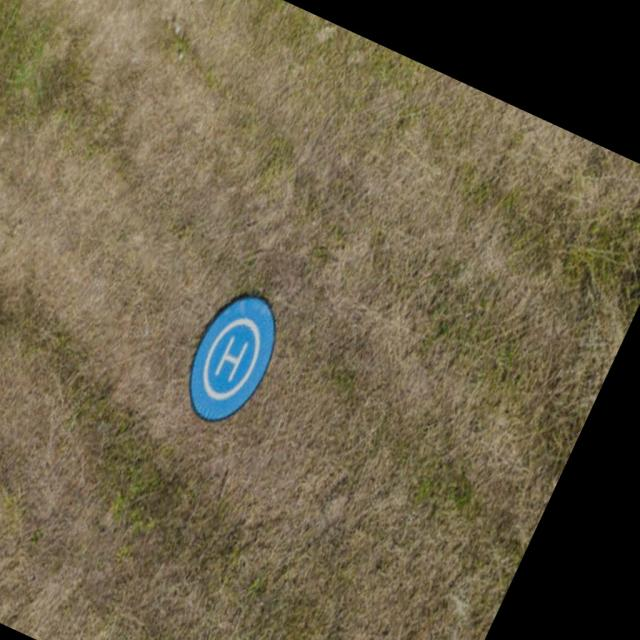helipad: (200, 316, 260, 402)
